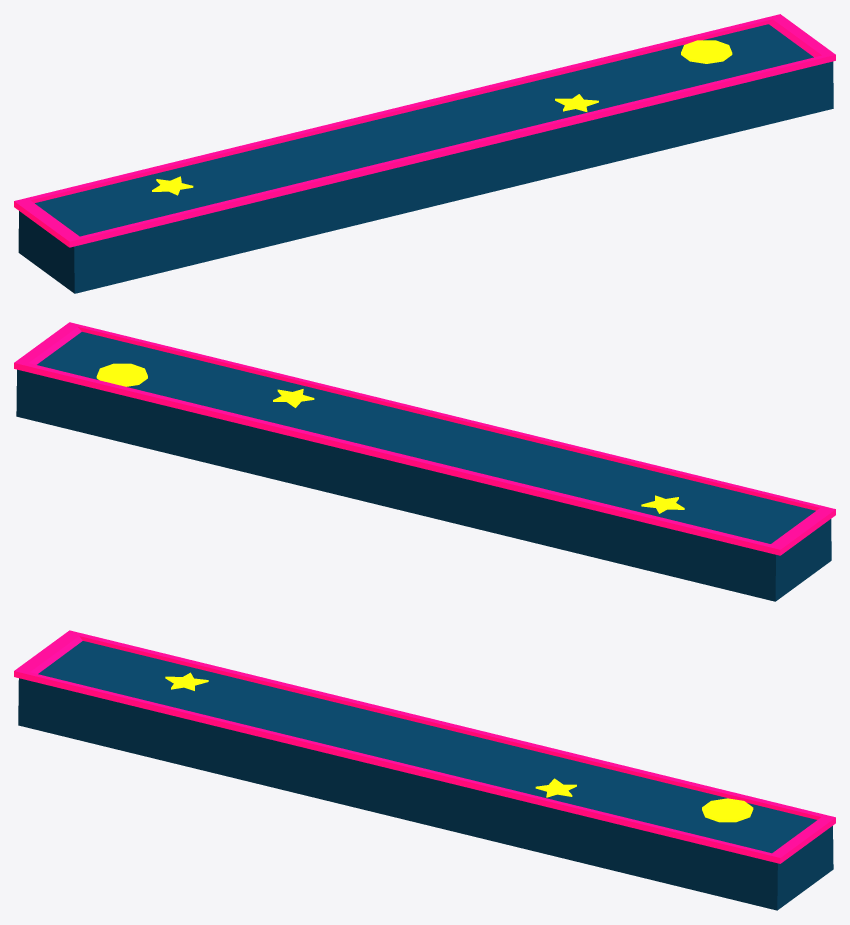
File: spaceChunk1.gltf
3 views of the same model, one above another, from view 1: azimuth 30°, elevation 25°; view 2: azimuth 150°, elevation 25°; view 3: azimuth 330°, elevation 25° (orthographic).
Visible parts, largest first — view 1: spaceChunk1; view 2: spaceChunk1; view 3: spaceChunk1.
Boxes of the visible parts, x1,y1,x2,y2 form: spaceChunk1: [14, 14, 835, 293]; spaceChunk1: [14, 322, 835, 601]; spaceChunk1: [14, 630, 835, 910].
Size of what is drawn, in the model's own units: 15.94 by 1.05 by 2.03.
1 material, 1 textured.
